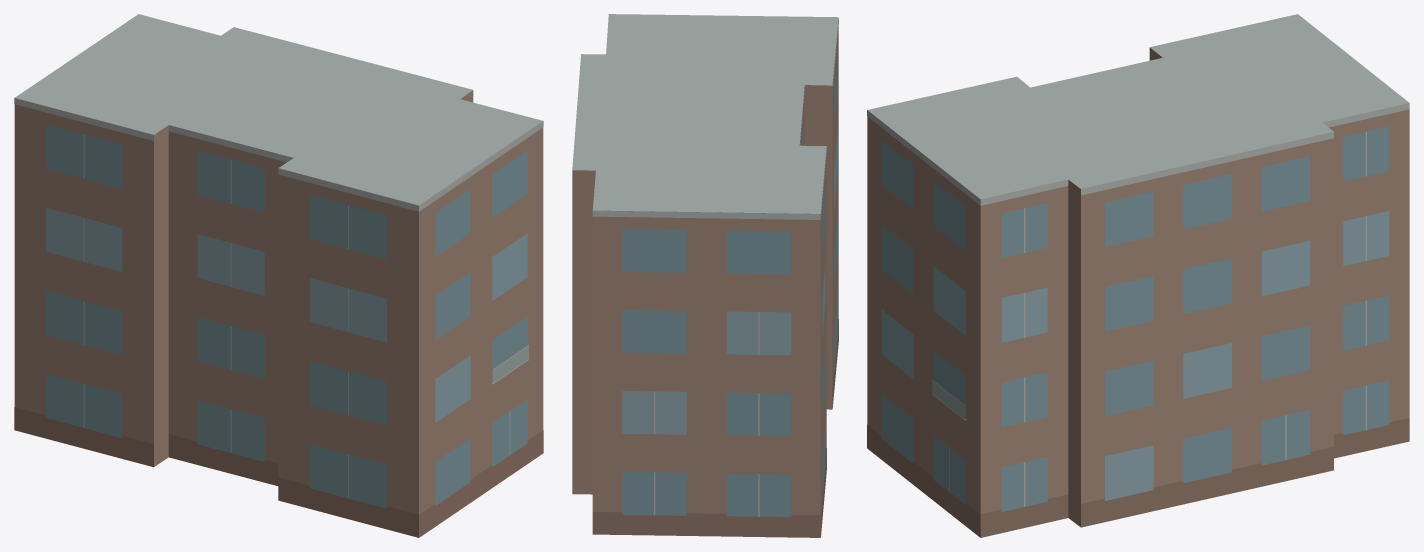
Rendered from survey-upis-32981987.glb.
The picture shows the model from 3 angles, left to right: view 1: azimuth 30°, elevation 25°; view 2: azimuth 150°, elevation 25°; view 3: azimuth 270°, elevation 25°; orthographic projection. The views are drawn at different scales.
Visible parts, largest first — view 1: survey-upis-32981987.tmp; view 2: survey-upis-32981987.tmp; view 3: survey-upis-32981987.tmp.
Boxes of the visible parts, left/top/right/bottom form: survey-upis-32981987.tmp: left=14, top=14, right=543, bottom=537; survey-upis-32981987.tmp: left=572, top=14, right=838, bottom=537; survey-upis-32981987.tmp: left=867, top=14, right=1409, bottom=537.
Bounding box in the file's own units: 15.29 × 13 × 18.9.
